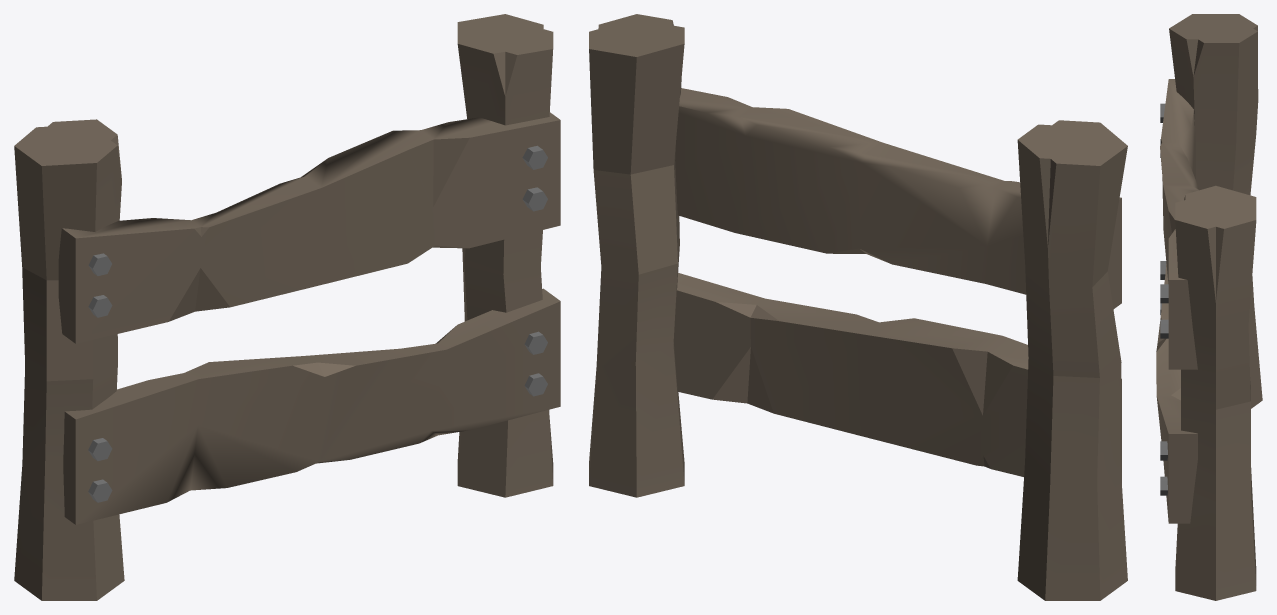
Rendered from Fence 001.fbx.
3 views of the same model, side by side, from view 1: azimuth 30°, elevation 25°; view 2: azimuth 150°, elevation 25°; view 3: azimuth 270°, elevation 25° (orthographic). The views are drawn at different scales.
Visible parts, largest first — view 1: Fence_001_pCylinder11; view 2: Fence_001_pCylinder11; view 3: Fence_001_pCylinder11.
Part boxes in pixels (x1,y1,x2,y2): Fence_001_pCylinder11: (14, 14, 560, 600); Fence_001_pCylinder11: (589, 14, 1127, 600); Fence_001_pCylinder11: (1156, 14, 1262, 600).
Size of the model in its own units: 10.99 by 8.84 by 2.27.
